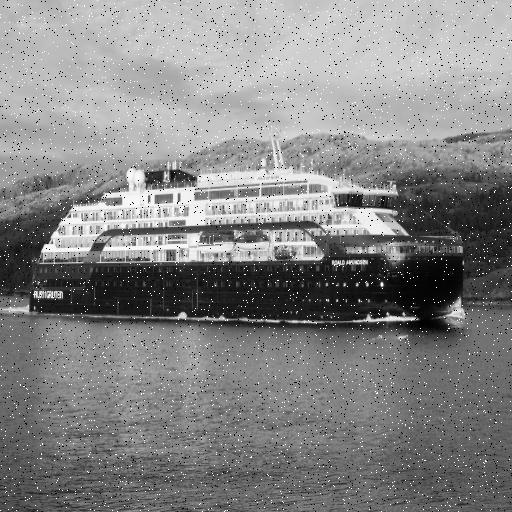cruises: (27, 128, 473, 333)
